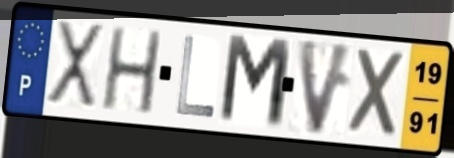H: (98, 25, 165, 118)
L: (174, 33, 217, 121)
M: (215, 31, 296, 134)
V: (295, 35, 357, 139)
X: (346, 44, 410, 141), (43, 17, 106, 114)
